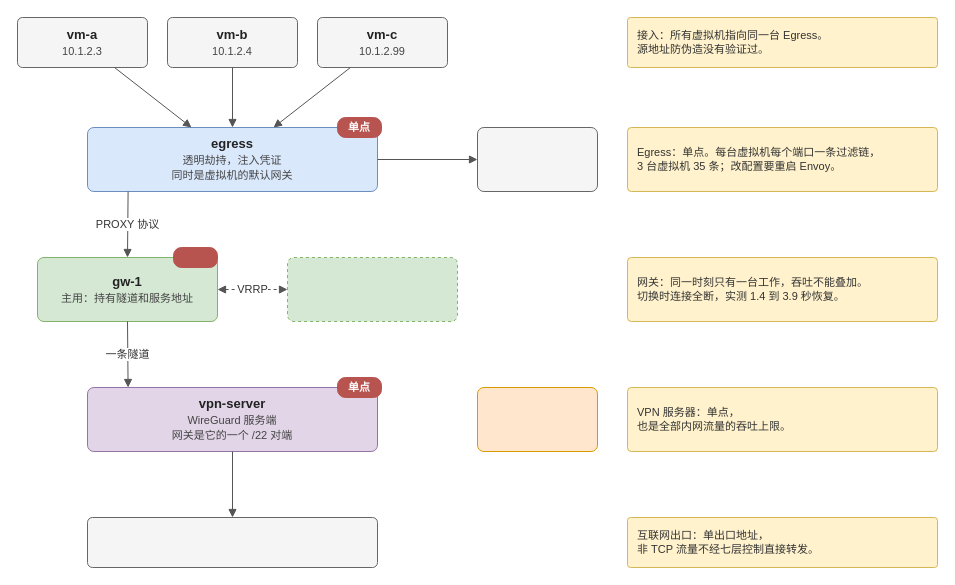
Image size: 955x585. Some labels were removed from this diagram. The centre of each missing label's shape, as x and y in pixels:
gw-2 备用：隧道不启动: the point at 372,289
intranet-svc 内网服务 10.200.5.6: the point at 232,542
public-web 模拟公网站点: the point at 537,159
单活: the point at 195,257
操作机脚本 经 SSH 逐台下发: the point at 537,419
